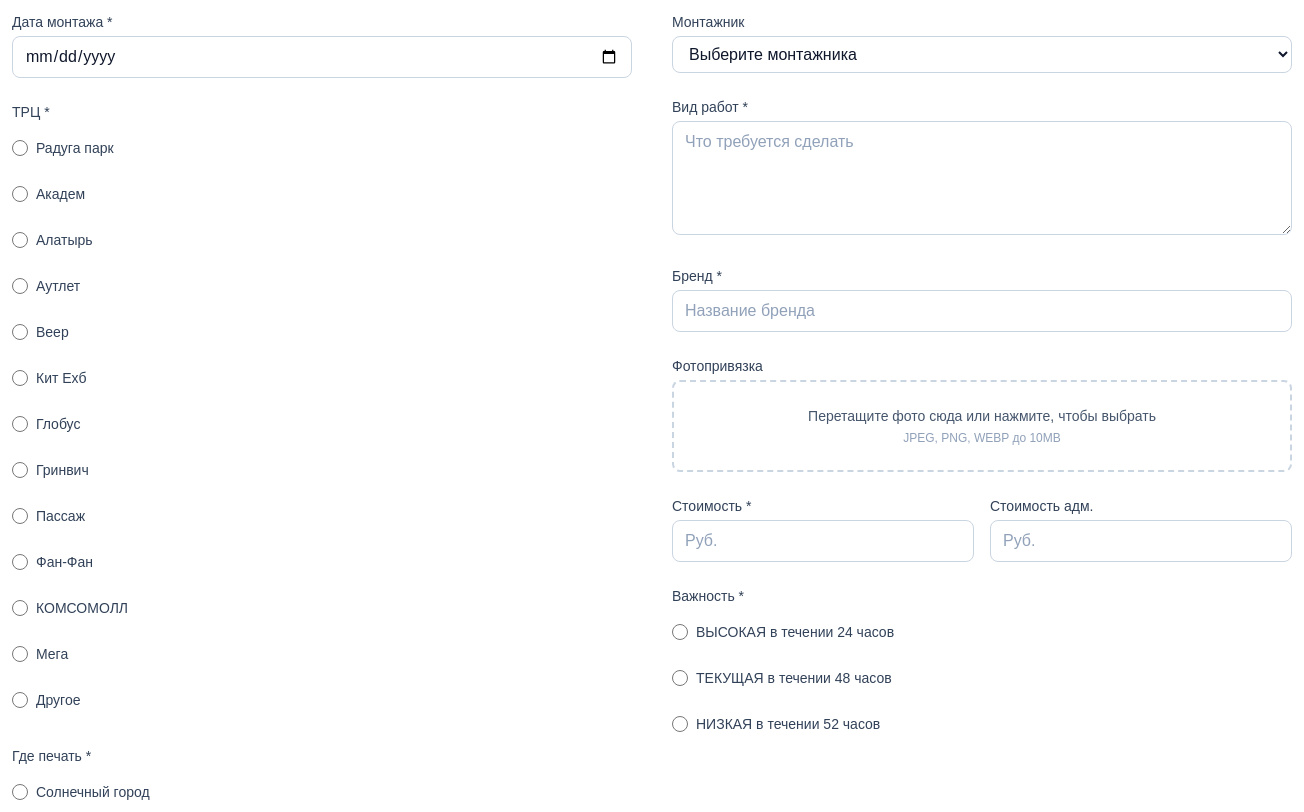
Test case: OrderForm — живой пересчёт price_admin (#32) › при вводе price подсказка показывает price*0.7
Type "10000" into the field labelled "Стоимость *" at (823, 541), box [672,520,974,562]
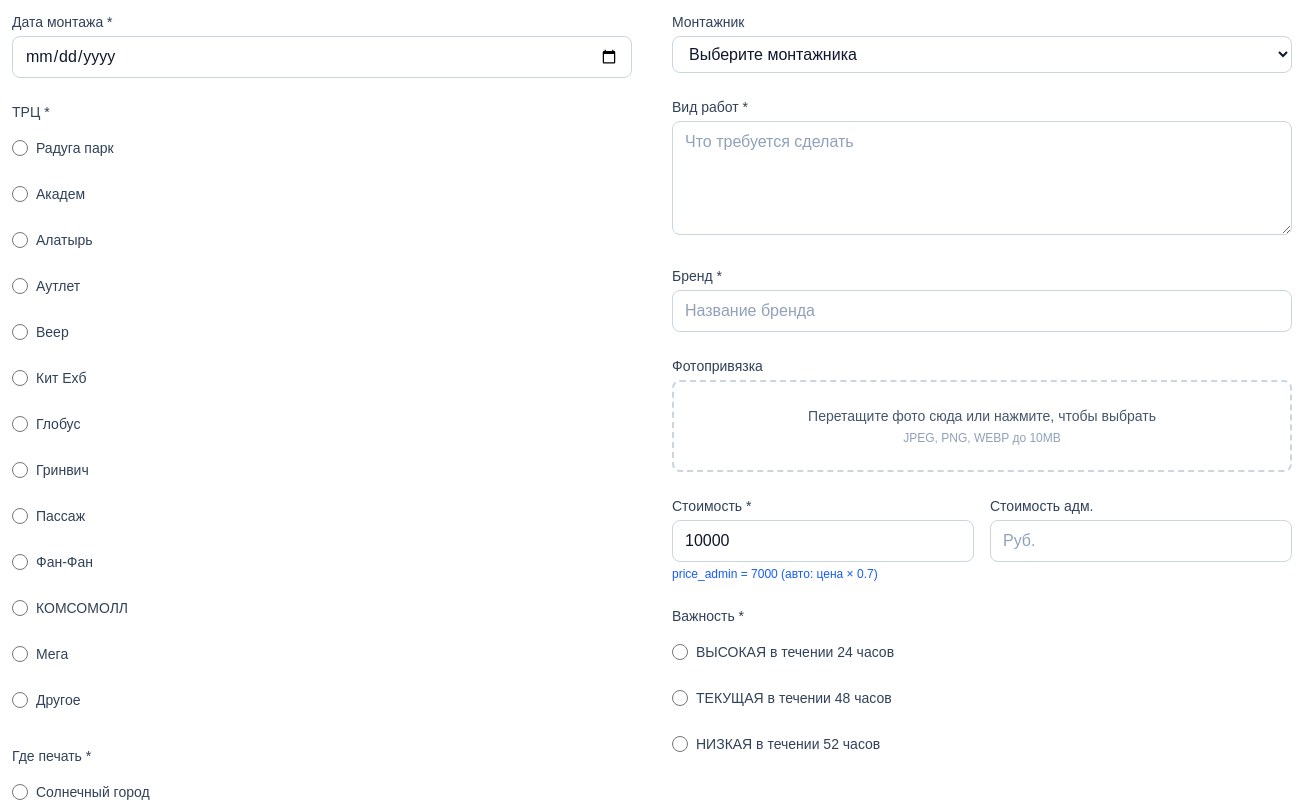
Now the text "price_admin = 7000 (авто: цена × 0.7)" is shown, box [672,567,878,581]
